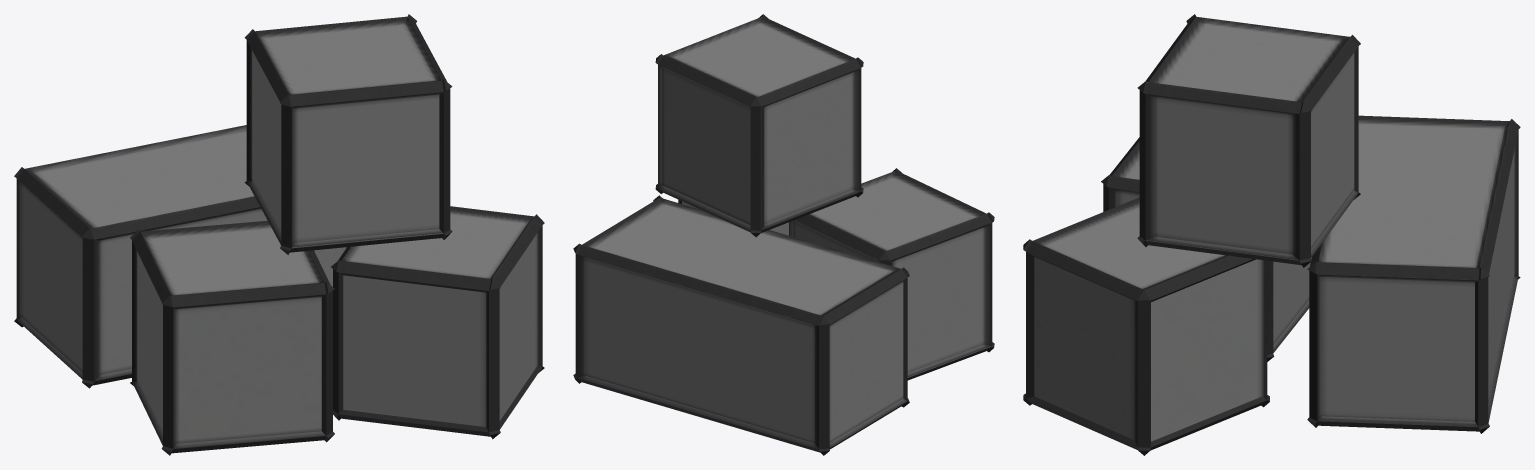
File: Storage_Crates_05.fbx
3 views of the same model, side by side, from view 1: azimuth 30°, elevation 25°; view 2: azimuth 150°, elevation 25°; view 3: azimuth 270°, elevation 25° (orthographic). The views are drawn at different scales.
Parts seen in each view (by area): view 1: Storage_Crates_05; view 2: Storage_Crates_05; view 3: Storage_Crates_05.
Boxes of the visible parts, box(x1,y1,x2,y2) form: Storage_Crates_05: box(14, 14, 544, 455); Storage_Crates_05: box(573, 14, 994, 455); Storage_Crates_05: box(1023, 14, 1520, 455).
Size of the model in its own units: 647 by 529 by 725.
